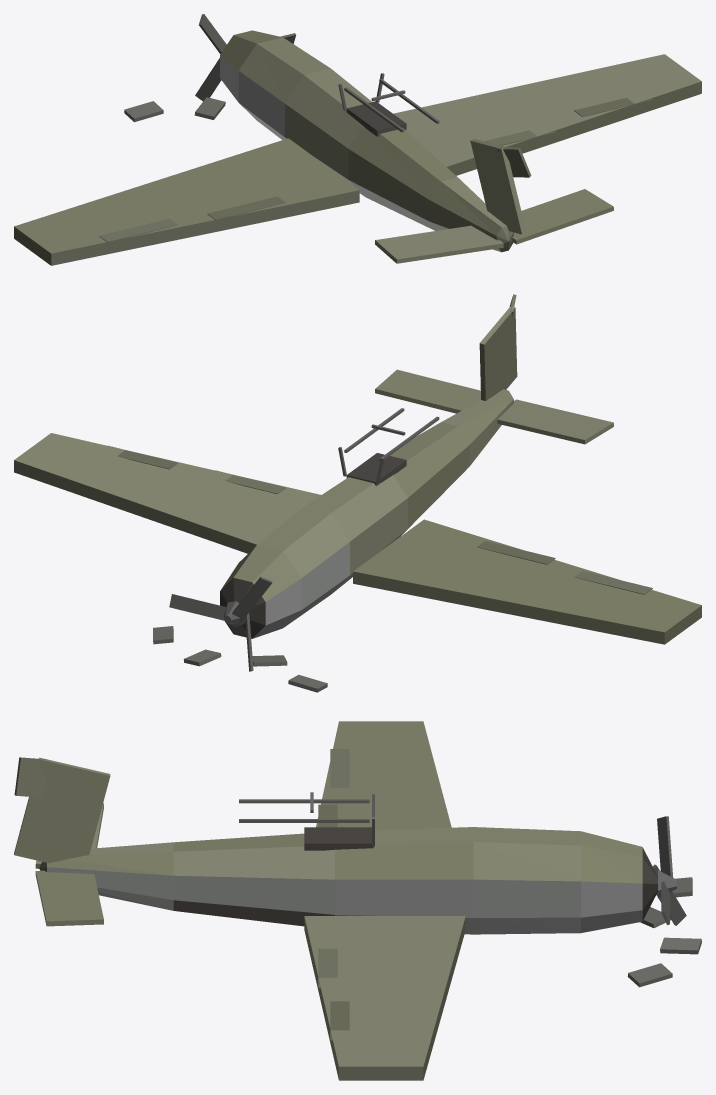
Rendered from jaeger_wrack.glb.
3 renders of one model, top to bottom at view 1: azimuth 30°, elevation 25°; view 2: azimuth 150°, elevation 25°; view 3: azimuth 270°, elevation 25°, orthographic. The views are drawn at different scales.
Parts seen in each view (by area): view 1: fluegel, rumpf, leitwerk, truemmer; view 2: fluegel, rumpf, leitwerk, truemmer; view 3: rumpf, fluegel, leitwerk, truemmer.
Boxes of the visible parts, box(x1,y1,x2,y2) form: fluegel: box(14, 54, 701, 265); rumpf: box(195, 14, 513, 252); leitwerk: box(375, 139, 613, 263); truemmer: box(124, 97, 225, 122); fluegel: box(14, 433, 701, 644); rumpf: box(169, 389, 513, 671); leitwerk: box(375, 294, 613, 444); truemmer: box(153, 626, 327, 692); rumpf: box(39, 792, 686, 934); fluegel: box(304, 721, 465, 1080); leitwerk: box(14, 757, 110, 926); truemmer: box(627, 877, 701, 987).
Size of the model in its own units: 11.1 by 2.61 by 8.95.
